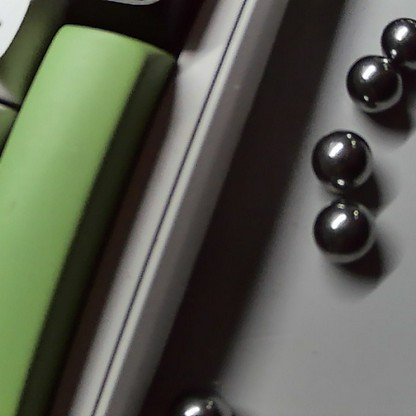ironball: (303, 180, 390, 273), (299, 112, 376, 195), (336, 50, 400, 115), (367, 9, 414, 70), (163, 391, 245, 414)
